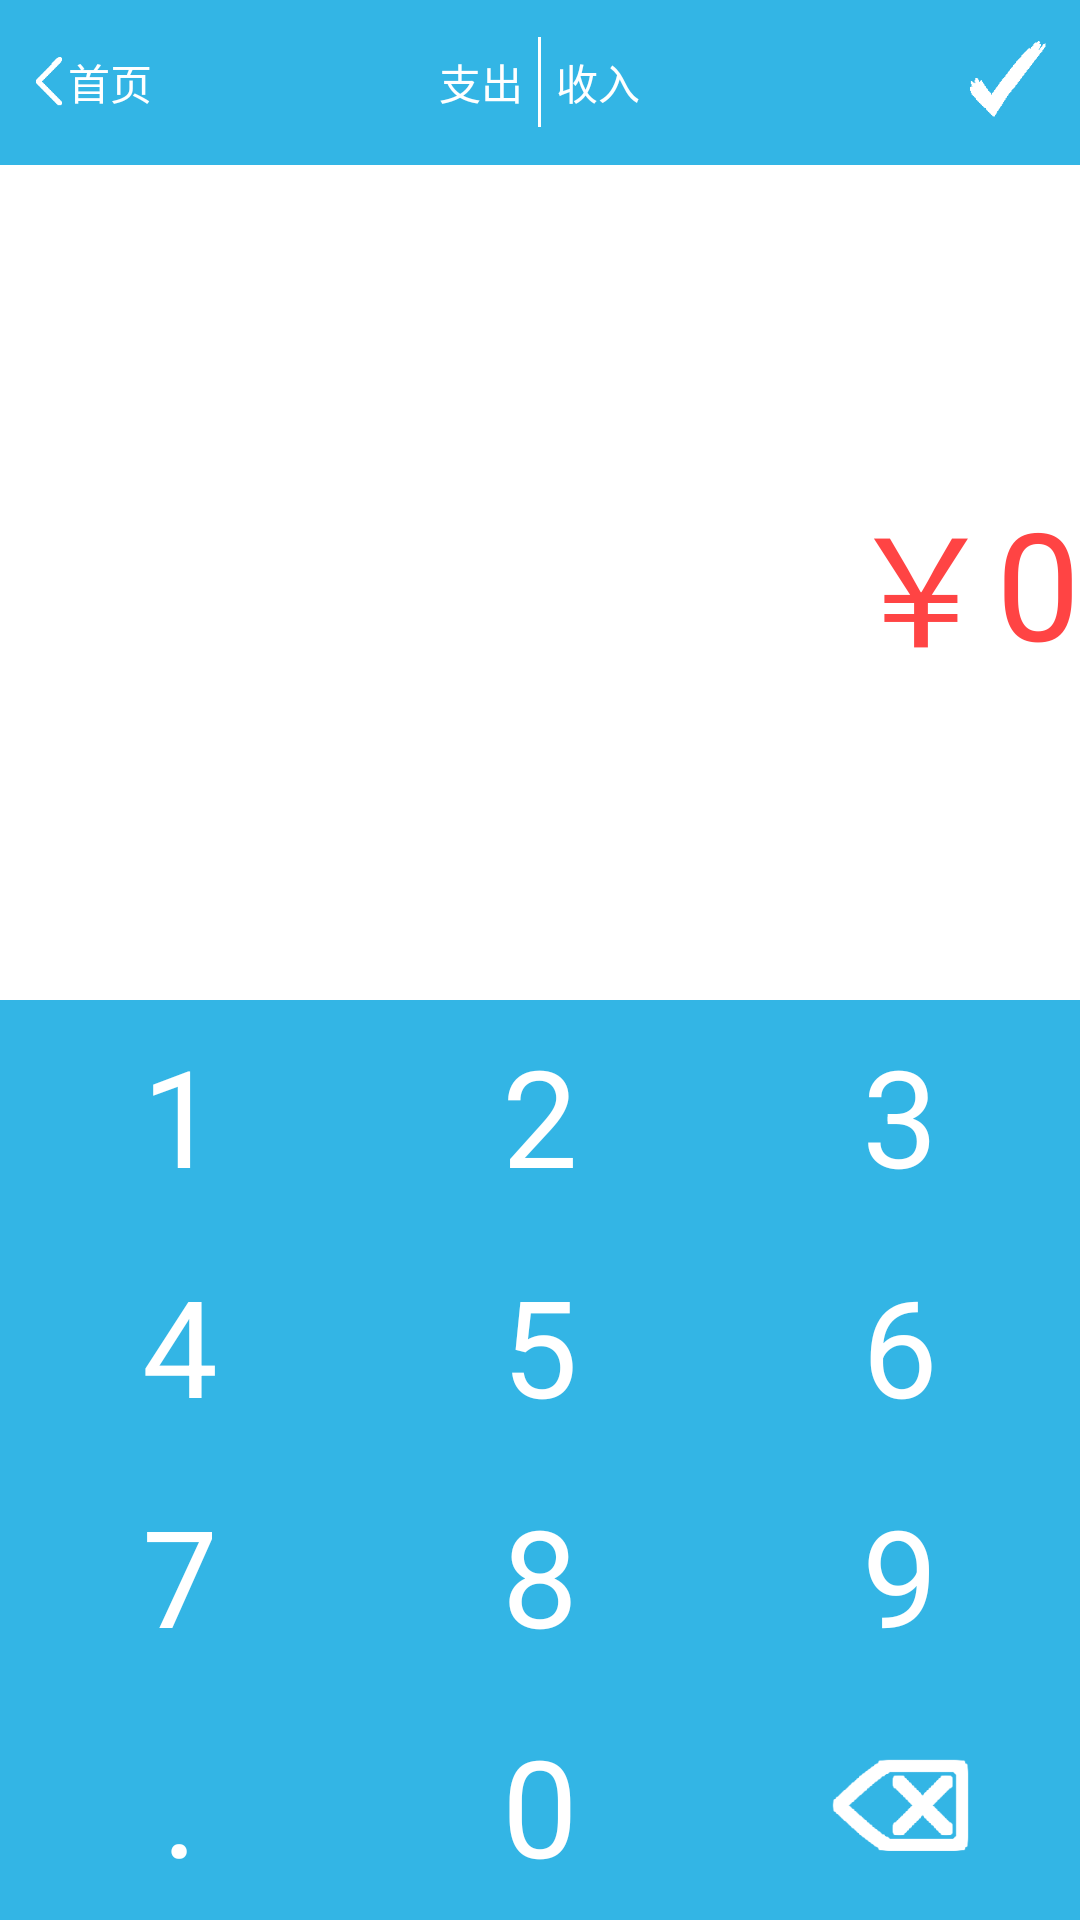

Where to tap for icons on this 1080*1920 app screen, as (x=x, y=y):
add detail comfirm: (x=1008, y=79)
keyboard del: (x=900, y=1805)
